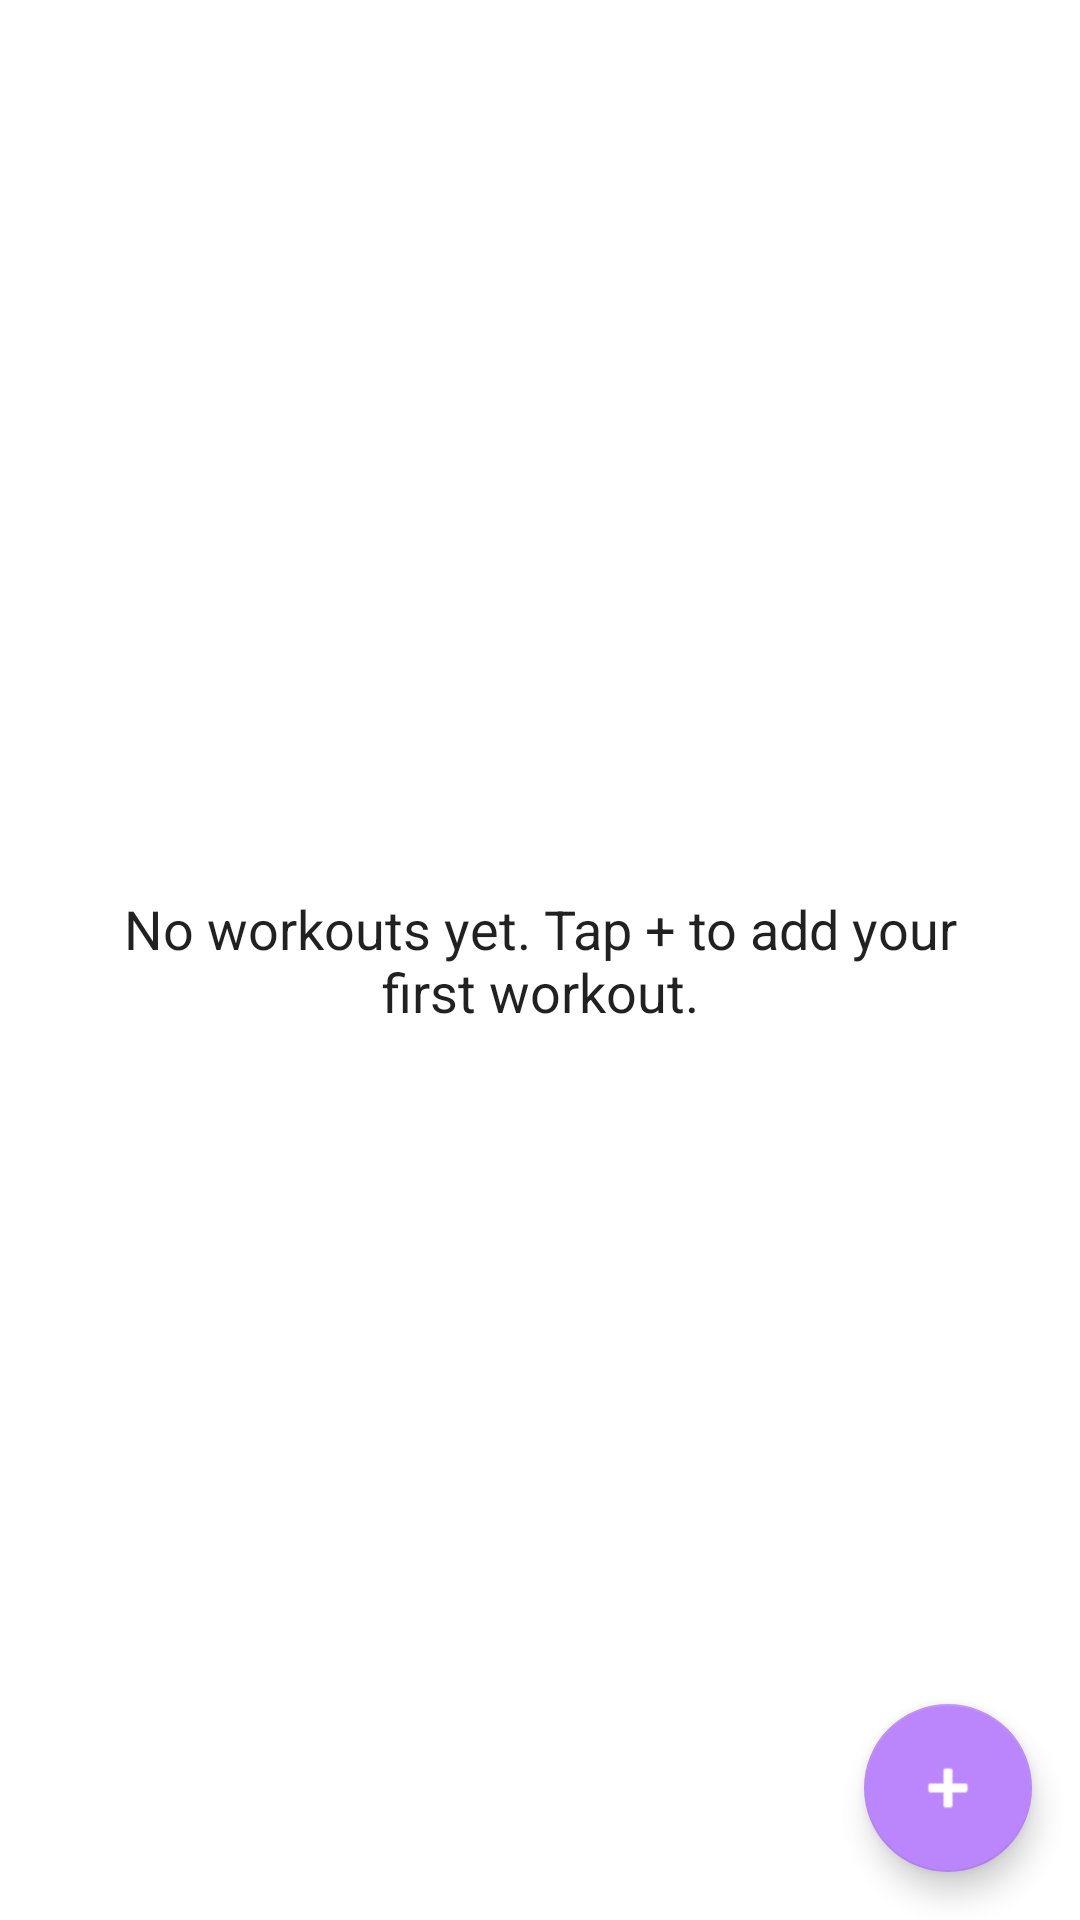

Icon bounding boxes for this 1080×1920 phone screenshot, format region(x1, y1, x2, y2):
Add workout: region(864, 1704, 1032, 1872)
